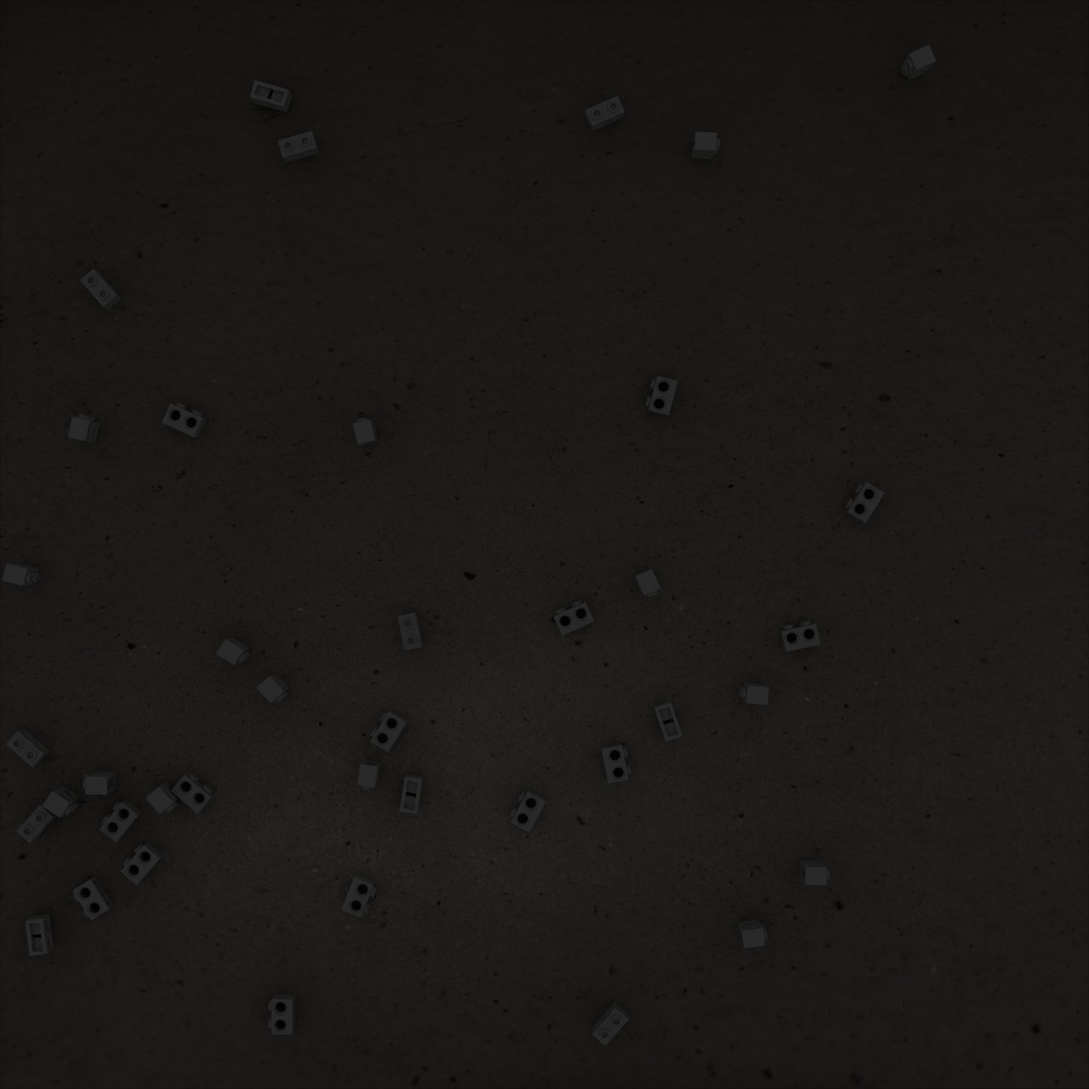lego: (100, 799, 143, 843), (121, 841, 164, 885), (170, 772, 215, 814), (72, 876, 114, 921), (16, 802, 60, 843), (6, 728, 51, 767), (80, 269, 122, 310), (591, 1002, 629, 1046), (845, 482, 885, 523), (370, 710, 408, 753), (509, 789, 546, 833), (341, 873, 377, 918), (162, 402, 206, 438), (553, 600, 594, 636), (585, 96, 625, 132), (250, 80, 292, 113), (645, 376, 678, 417), (278, 131, 320, 163), (779, 620, 821, 652), (42, 785, 81, 818), (653, 700, 683, 742), (901, 45, 936, 81), (601, 743, 631, 784), (25, 914, 54, 956), (146, 781, 182, 814), (268, 994, 295, 1035), (399, 773, 424, 814), (256, 673, 290, 703), (398, 612, 423, 651), (68, 414, 100, 444), (216, 637, 250, 665), (737, 919, 768, 948), (2, 563, 40, 586), (83, 771, 117, 795), (691, 132, 720, 159), (634, 568, 661, 597), (353, 417, 379, 447), (357, 759, 382, 790), (799, 860, 830, 885), (739, 682, 769, 705)
